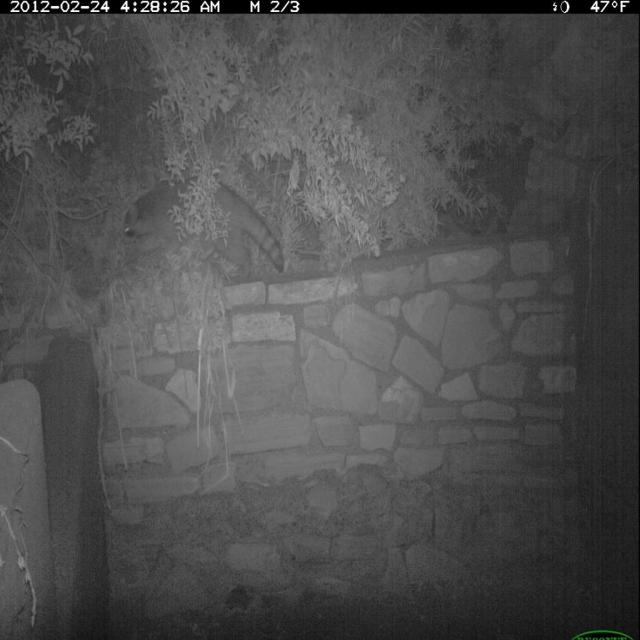raccoon: (119, 163, 293, 290)
